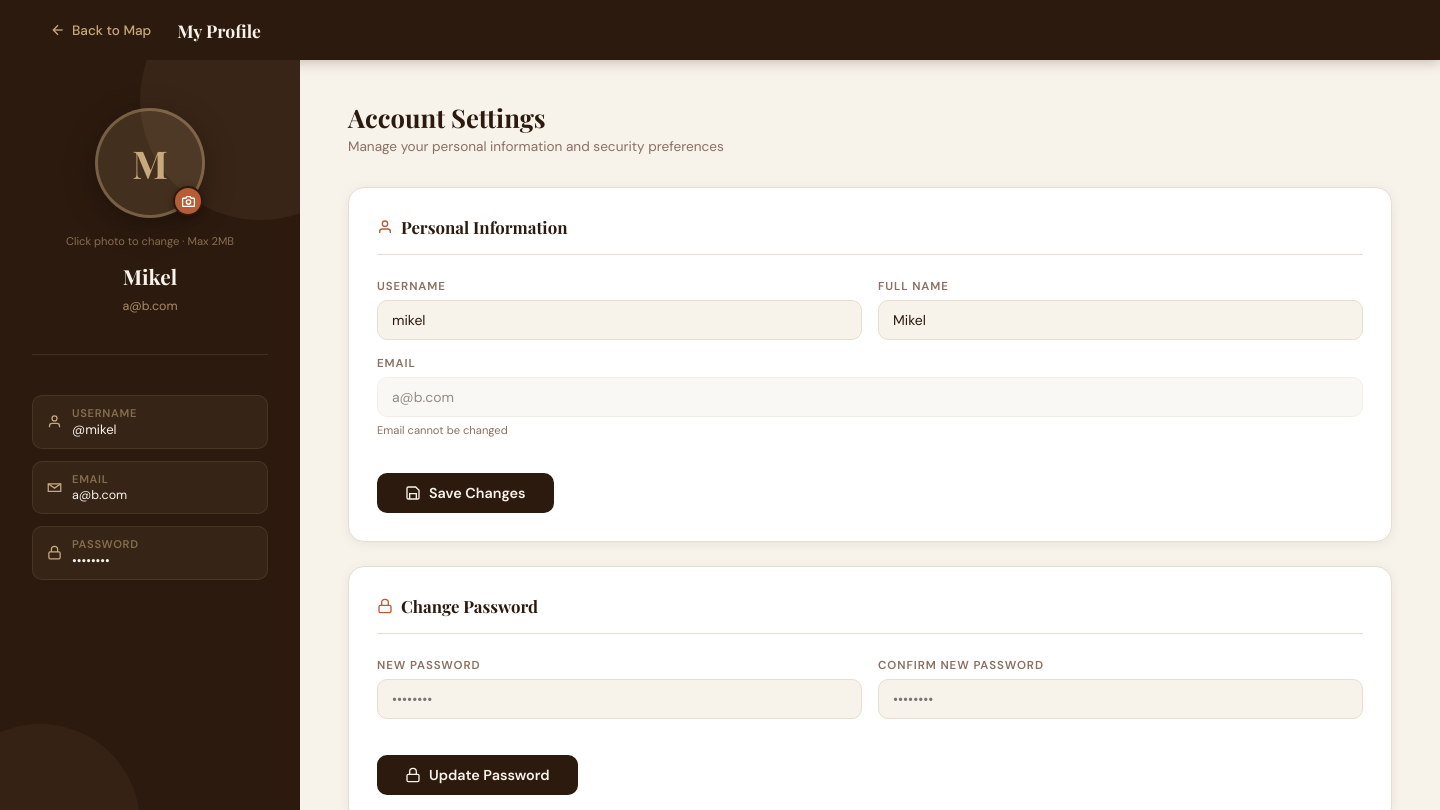
Scenario: reports success once the update succeeds
Click the button "Save Changes" at (465, 493), box [377,473,554,513]
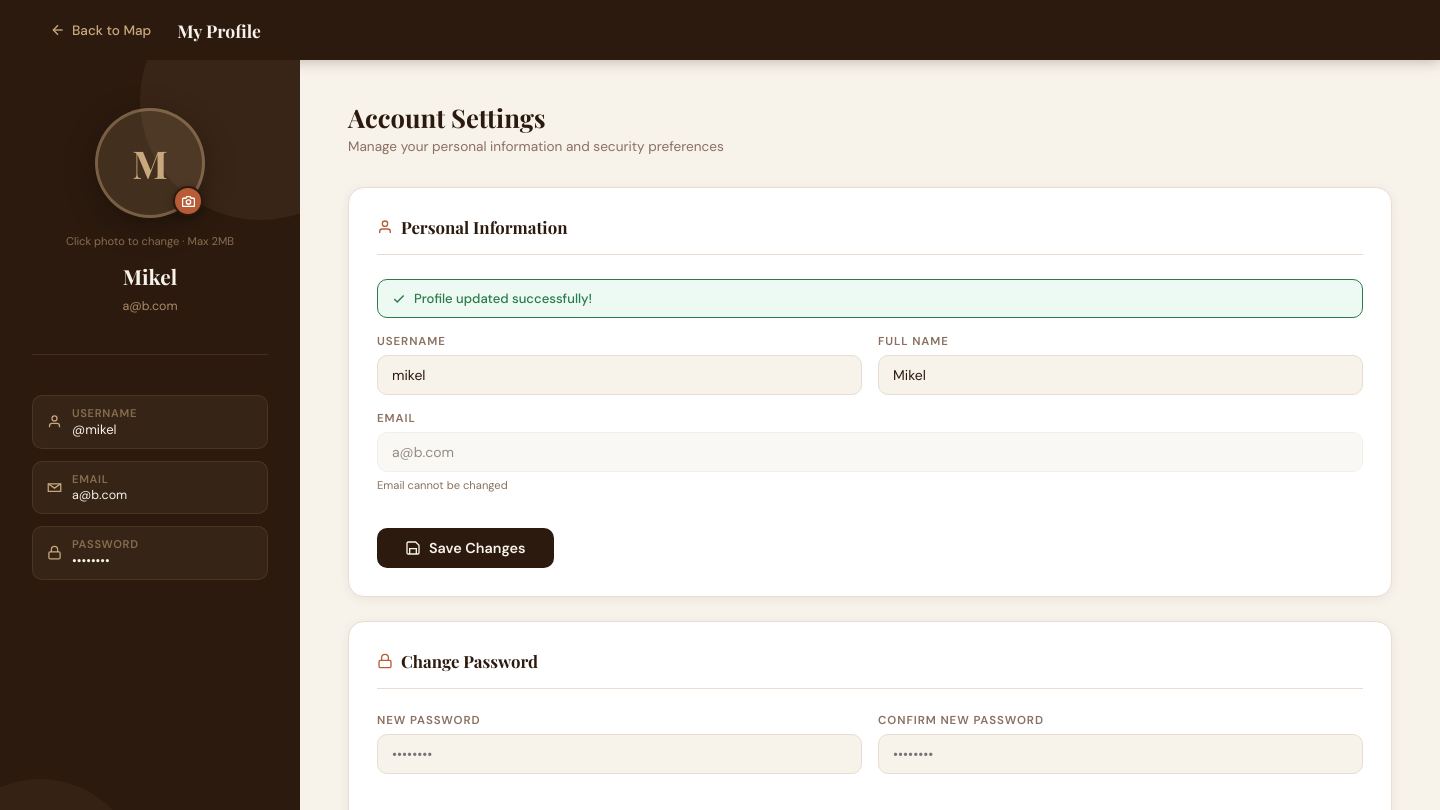
Expected: the text "Profile updated successfully!" is shown, [377,279,1363,318]
